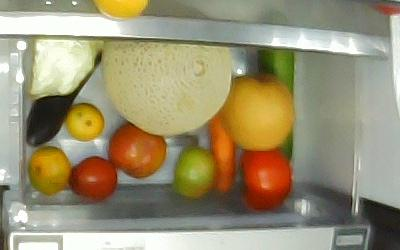cabbage: (29, 36, 104, 97)
carrot: (210, 111, 235, 193)
eggplant: (29, 44, 103, 147)
melon: (103, 38, 231, 136)
peach: (220, 72, 295, 149)
prune: (109, 121, 166, 178), (69, 156, 118, 202)
tangerine: (27, 147, 72, 195), (65, 103, 105, 142)
tomato: (237, 147, 291, 209), (173, 148, 216, 199)
zucchini: (256, 49, 294, 165)
